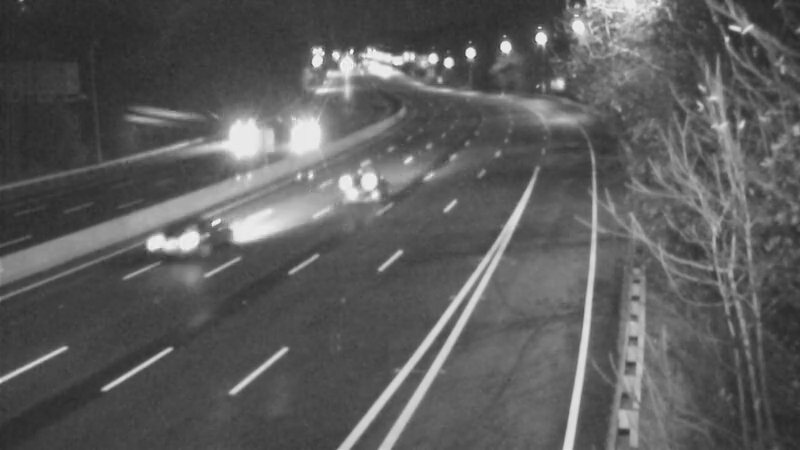vehicle: (323, 148, 403, 228), (143, 203, 223, 283), (234, 115, 284, 165), (281, 113, 331, 163)
